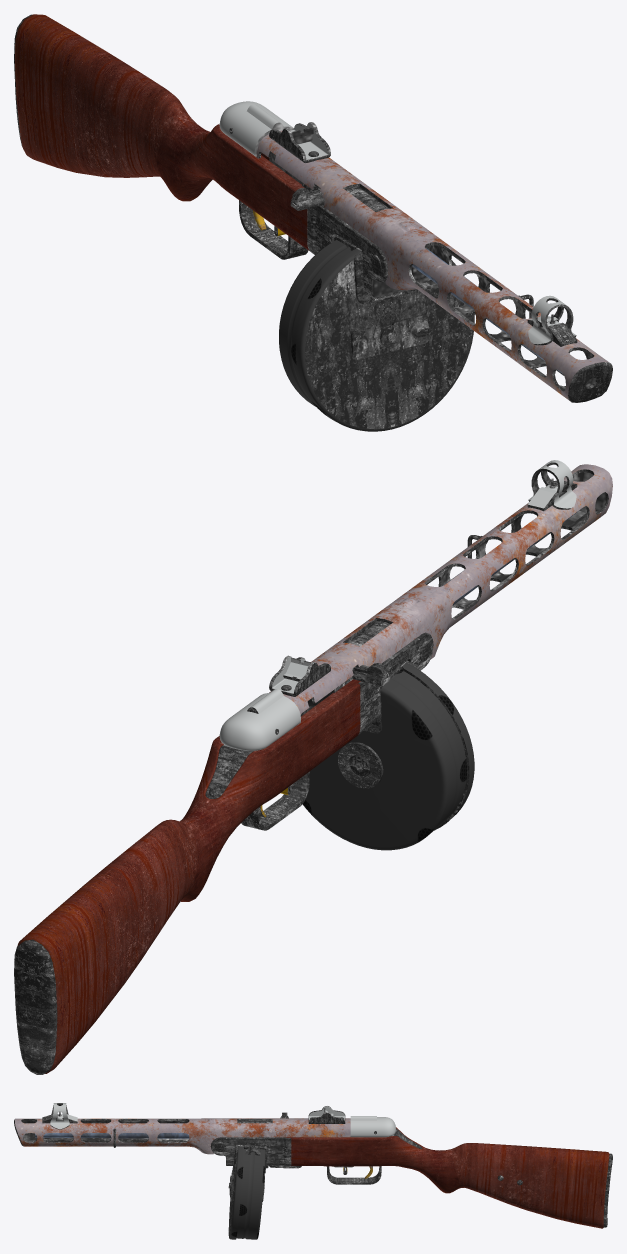
File: PPS.glb
3 renders of one model, top to bottom at view 1: azimuth 30°, elevation 25°; view 2: azimuth 150°, elevation 25°; view 3: azimuth 270°, elevation 25°, orthographic. The views are drawn at different scales.
Parts seen in each view (by area): view 1: polySurface4, polySurface53, polySurface197, polySurface35, polySurface199, polySurface56, polySurface181, polySurface30, polySurface238, polySurface242, polySurface193, polySurface1 (+1 smaller); view 2: polySurface4, polySurface31, polySurface197, polySurface2, polySurface35, polySurface181, polySurface199, polySurface49, polySurface56, polySurface205, polySurface242, polySurface193; view 3: polySurface4, polySurface197, polySurface35, polySurface199, polySurface242, polySurface181, polySurface56, polySurface201, polySurface1, polySurface2, polySurface193, polySurface236 (+3 smaller).
Boxes of the visible parts, <box> form: polySurface4: <box>15,14,309,250</box>; polySurface53: <box>305,259,472,429</box>; polySurface197: <box>256,130,608,401</box>; polySurface35: <box>279,240,353,406</box>; polySurface199: <box>307,205,407,297</box>; polySurface56: <box>295,249,474,431</box>; polySurface181: <box>219,101,293,156</box>; polySurface30: <box>352,315,428,360</box>; polySurface238: <box>568,362,612,402</box>; polySurface242: <box>358,186,595,389</box>; polySurface193: <box>241,202,288,255</box>; polySurface1: <box>528,295,576,344</box>; polySurface4: <box>17,679,360,1073</box>; polySurface31: <box>302,687,447,850</box>; polySurface197: <box>269,464,612,724</box>; polySurface2: <box>14,939,57,1074</box>; polySurface35: <box>382,669,466,836</box>; polySurface181: <box>219,693,300,750</box>; polySurface199: <box>358,633,433,735</box>; polySurface49: <box>338,743,381,788</box>; polySurface56: <box>402,663,474,816</box>; polySurface205: <box>205,744,253,798</box>; polySurface242: <box>347,477,586,642</box>; polySurface193: <box>260,773,307,826</box>; polySurface4: <box>286,1127,609,1228</box>; polySurface197: <box>15,1118,350,1154</box>; polySurface35: <box>236,1148,264,1239</box>; polySurface199: <box>211,1137,291,1165</box>; polySurface242: <box>21,1120,272,1141</box>; polySurface181: <box>350,1117,395,1137</box>; polySurface56: <box>229,1146,243,1239</box>; polySurface201: <box>35,1133,189,1138</box>; polySurface1: <box>50,1103,69,1128</box>; polySurface2: <box>603,1153,612,1227</box>; polySurface193: <box>329,1166,379,1182</box>; polySurface236: <box>309,1113,344,1123</box>.
Size of the model in its own units: 0.0745 by 0.1015 by 0.4203.
7 materials, 7 textured.
